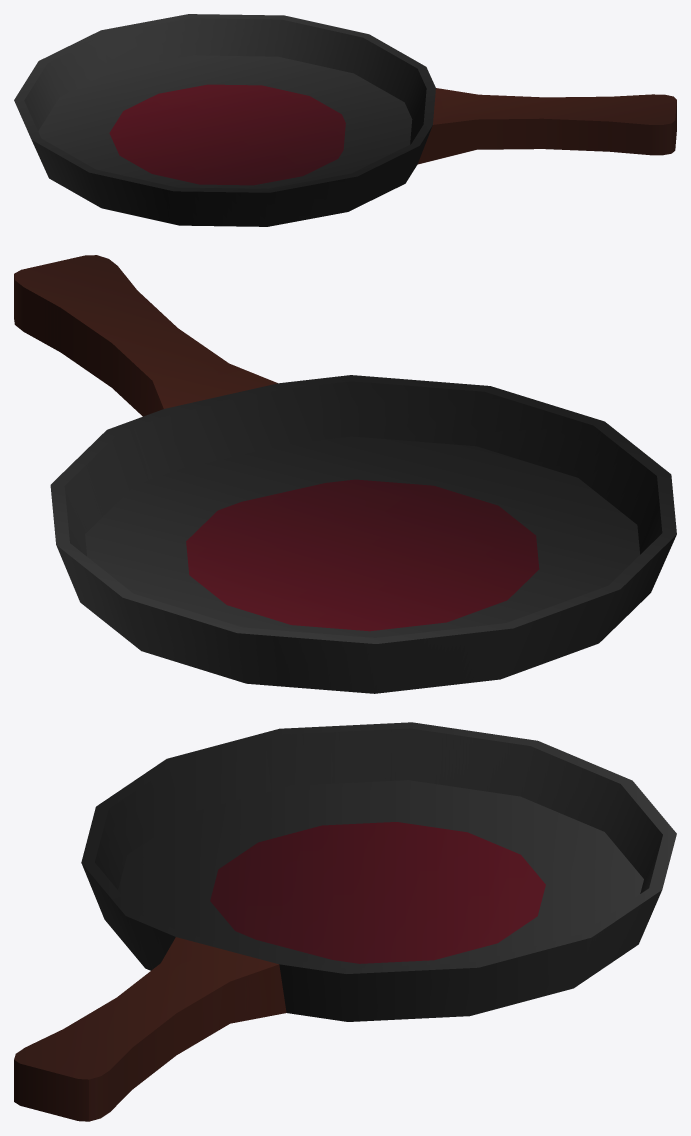
The model's file is Pan.fbx.
The picture shows the model from 3 angles, top to bottom: view 1: azimuth 30°, elevation 25°; view 2: azimuth 150°, elevation 25°; view 3: azimuth 270°, elevation 25°; orthographic projection. The views are drawn at different scales.
Parts seen in each view (by area): view 1: pan; view 2: pan; view 3: pan.
Part boxes in pixels (bbox=[...]): pan: bbox=[14, 14, 676, 226]; pan: bbox=[14, 255, 676, 693]; pan: bbox=[14, 722, 676, 1121].
Size of the model in its own units: 0.7549 by 0.0567 by 0.5921.
